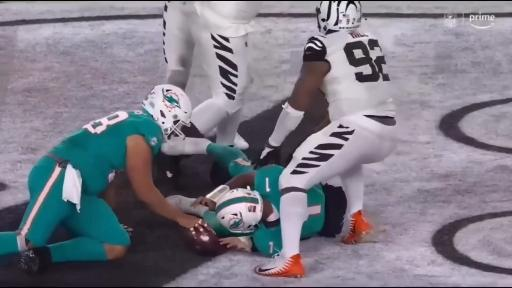Helmet: (143, 85, 192, 139), (216, 189, 263, 232), (316, 2, 361, 33)
Jersey: (50, 111, 164, 195), (303, 31, 395, 121), (194, 2, 262, 37), (301, 185, 325, 239)
Player: (256, 2, 396, 277), (0, 85, 204, 273), (163, 2, 261, 149), (167, 143, 283, 256)
